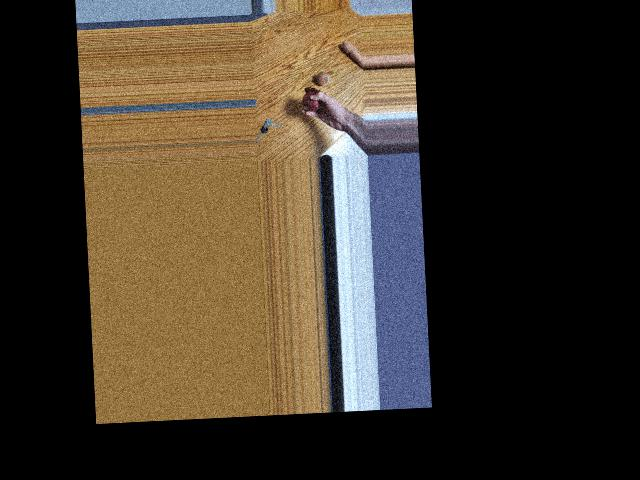onion: (315, 69, 334, 91)
